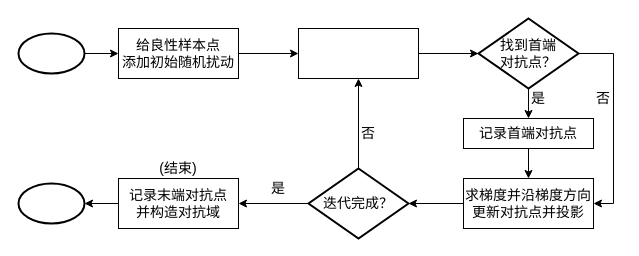
The diagram is 639 pixels wide and 256 high, and some of its shapes have lost their labels. Here are the shapes that lost their labels. From the top down, the box of each, then its label:
(17, 32, 85, 74): 开始
(298, 28, 418, 78): 输入模型得到预测 计算DLR损失
(17, 182, 85, 224): 结束
